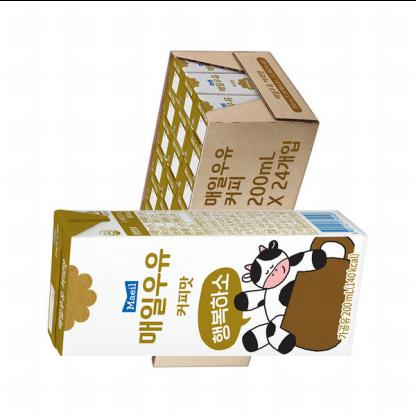tetra: (28, 181, 380, 391)
